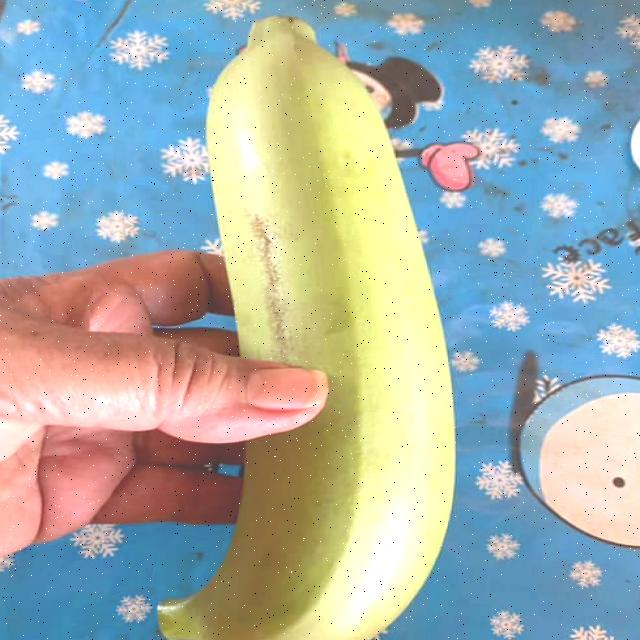Unripe: (74, 0, 524, 640)
